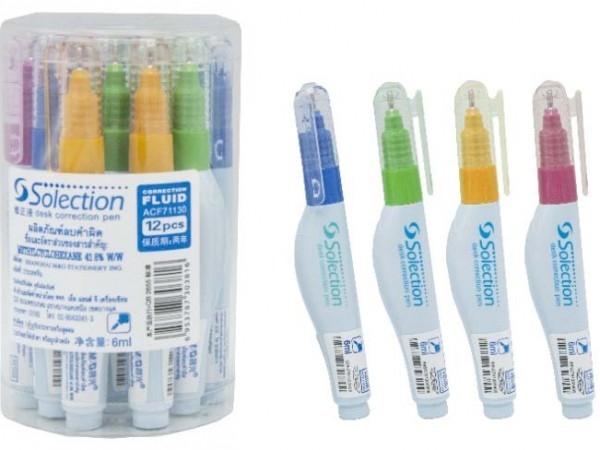Correction_fluid: (285, 80, 380, 427), (365, 78, 454, 425), (520, 78, 600, 420), (442, 81, 522, 421)
